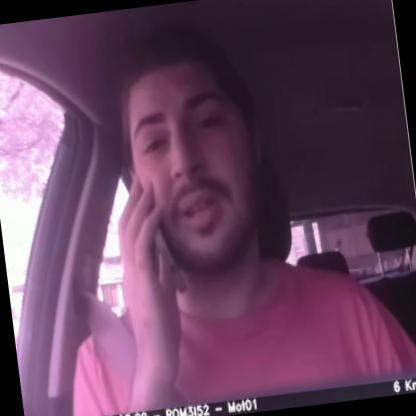phone: (112, 147, 193, 312)
